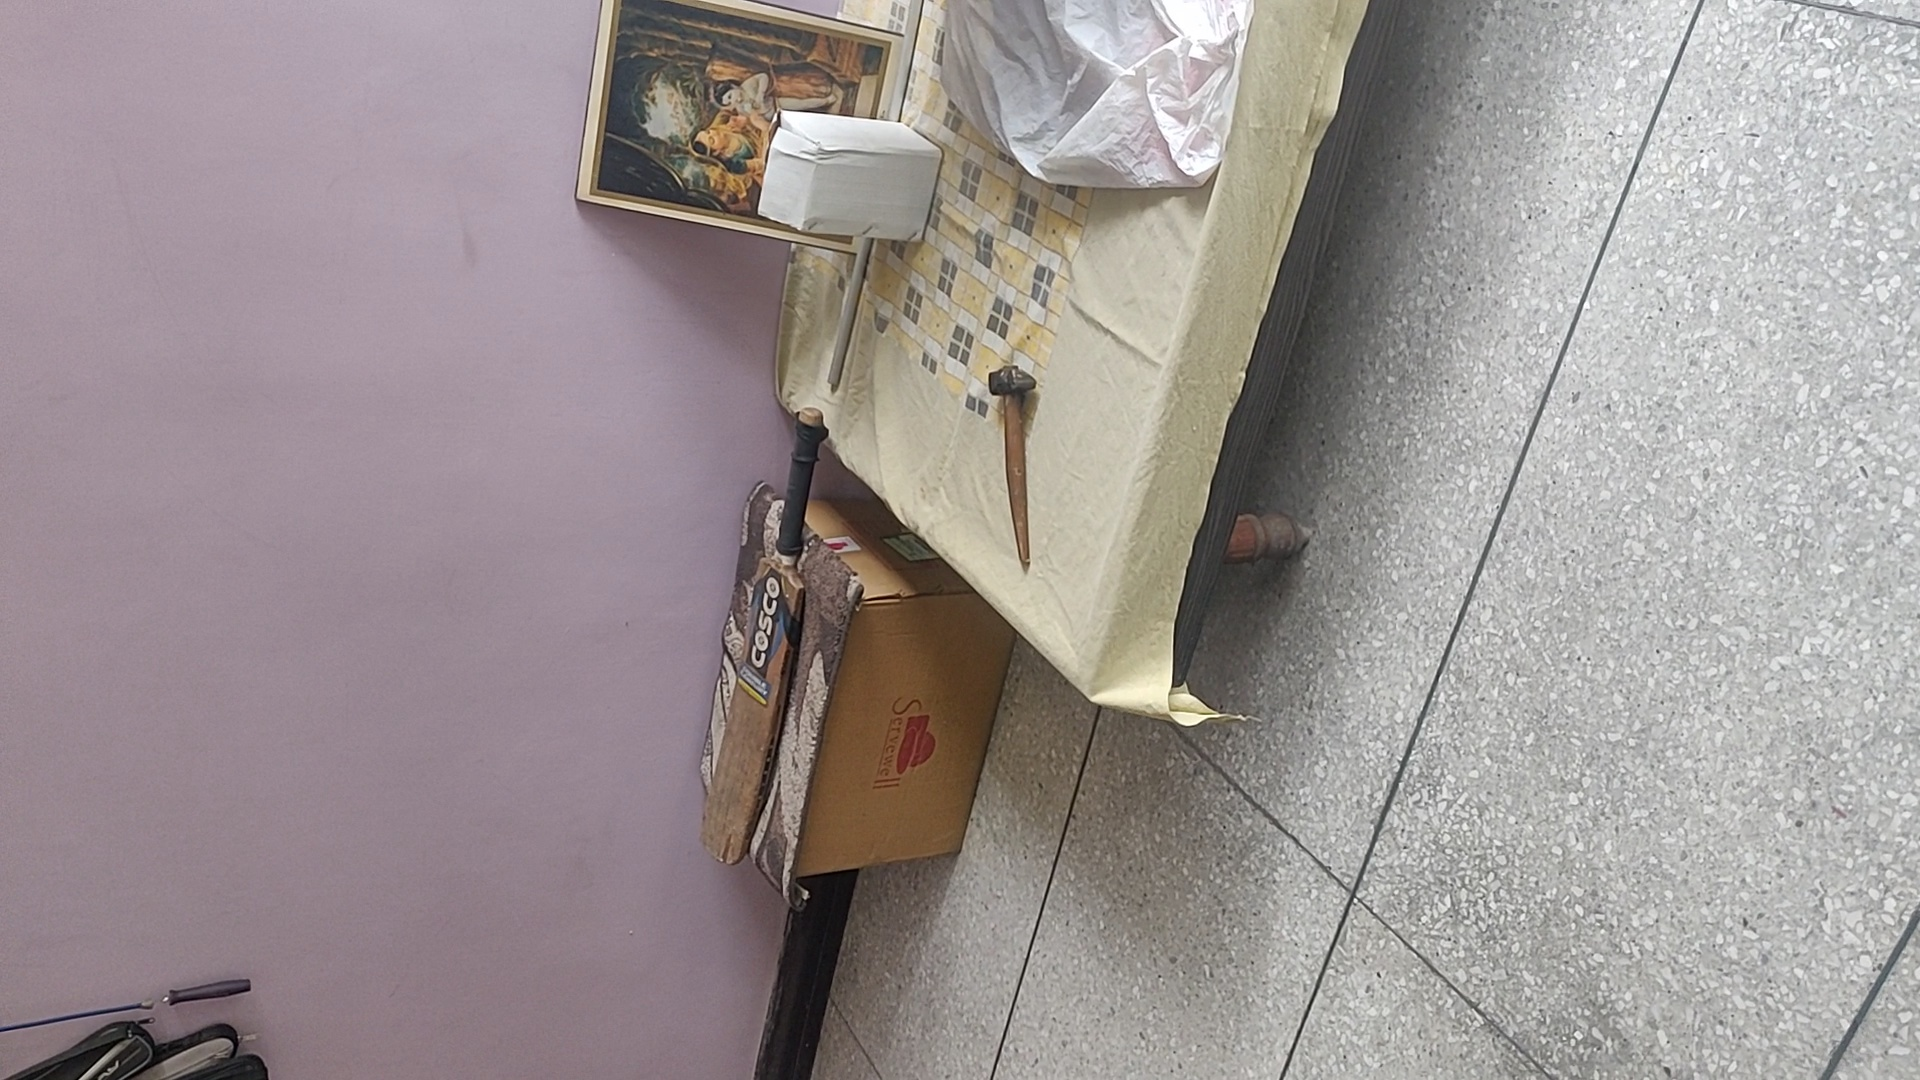hammer: (982, 367, 1044, 566)
